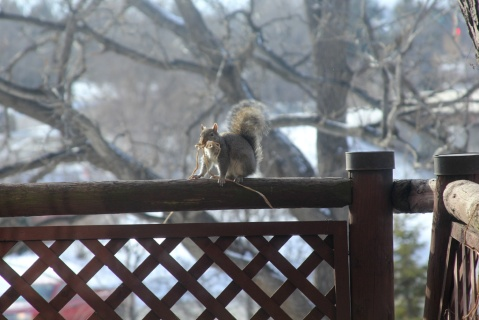Squirrel: (186, 99, 273, 186)
